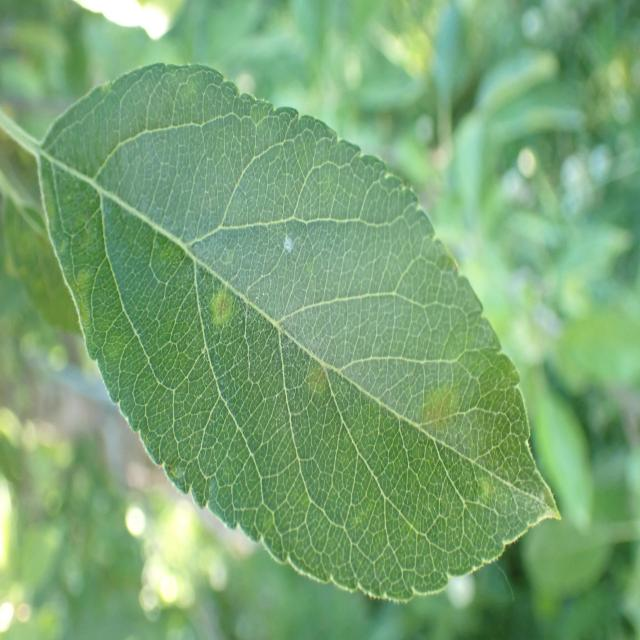scab: (62, 110, 508, 574)
